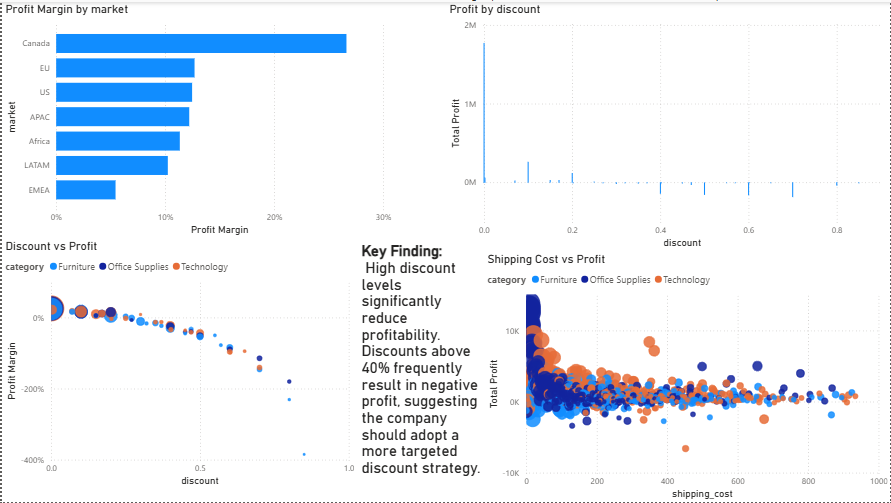

The dashboard page shown, as its layout file describes it:
{"tool":"powerbi","page":{"name":"Profitability Analysis","canvas":[1280,720],"ordinal":2},"visuals":[{"type":"clusteredBarChart","fields":{"Category":["sales_cleaned_final.market"],"Y":["sales_cleaned_final.Profit Margin"]},"box":[0,0,566.1,341],"z":0},{"type":"clusteredColumnChart","title":"Profit by discount","fields":{"Category":["sales_cleaned_final.discount"],"Y":["sales_cleaned_final.Total Profit"]},"box":[640,0,640,359.5],"z":1},{"type":"scatterChart","title":"Discount vs Profit","fields":{"X":["sales_cleaned_final.discount"],"Size":["sales_cleaned_final.Total Sales"],"Series":["sales_cleaned_final.category"],"Y":["sales_cleaned_final.Profit Margin"]},"box":[0,341,512.3,361.2],"z":2},{"type":"scatterChart","title":"Shipping Cost vs Profit","fields":{"X":["sales_cleaned_final.shipping_cost"],"Y":["sales_cleaned_final.Total Profit"],"Size":["sales_cleaned_final.Total Sales"],"Series":["sales_cleaned_final.category"]},"box":[693.8,359.5,586.2,361.2],"z":3},{"type":"textbox","box":[512.6,341.3,181.4,378.7],"z":4}]}

Visuals, with their boxes in screenshot pixels (x1, y1, x2, y2), scaled from the page's 1280x720 canvas onto the 891x503 screenshot:
clusteredBarChart - sales_cleaned_final.market x sales_cleaned_final.Profit Margin: bbox=[0, 0, 394, 238]
"Profit by discount" clusteredColumnChart: bbox=[446, 0, 890, 251]
"Discount vs Profit" scatterChart: bbox=[0, 238, 357, 491]
"Shipping Cost vs Profit" scatterChart: bbox=[483, 251, 890, 502]
textbox: bbox=[357, 238, 483, 502]
